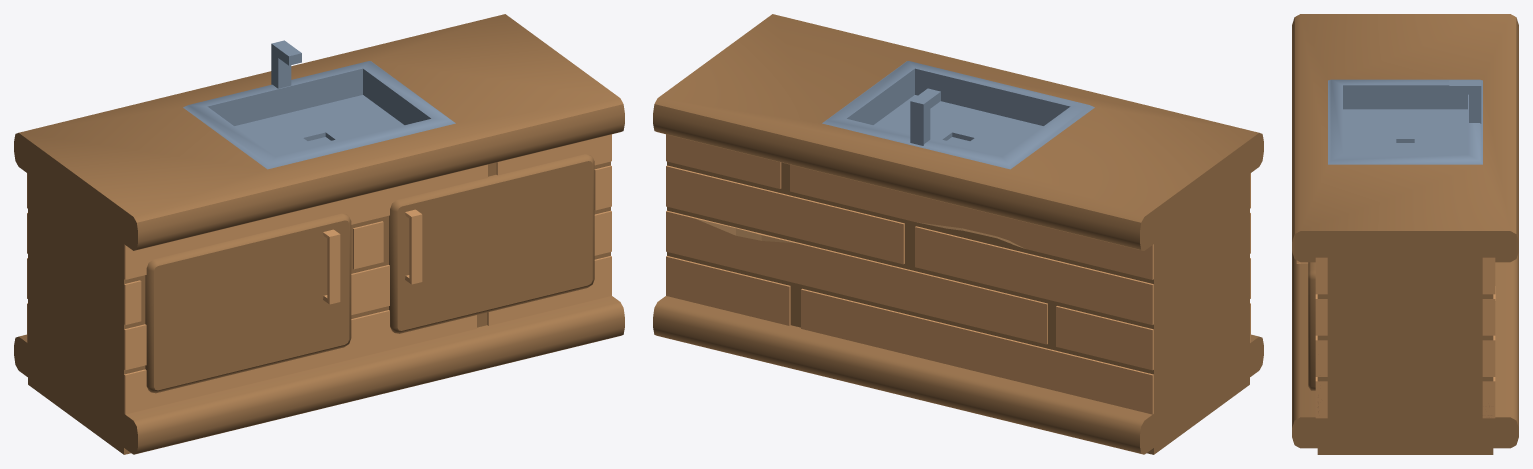
Rendered from Environment_Counter_Sink.fbx.
The picture shows the model from 3 angles, left to right: view 1: azimuth 30°, elevation 25°; view 2: azimuth 150°, elevation 25°; view 3: azimuth 270°, elevation 25°; orthographic projection. The views are drawn at different scales.
Visible parts, largest first — view 1: Environment_Counter_Sink; view 2: Environment_Counter_Sink; view 3: Environment_Counter_Sink.
Boxes of the visible parts, x1=… form: Environment_Counter_Sink: x1=14, y1=14, x2=624, y2=454; Environment_Counter_Sink: x1=653, y1=14, x2=1263, y2=454; Environment_Counter_Sink: x1=1292, y1=14, x2=1518, y2=454.
Bounding box in the file's own units: 400 × 226 × 177.
